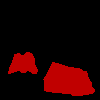gonna: (42, 61, 94, 96), (8, 52, 38, 74)
